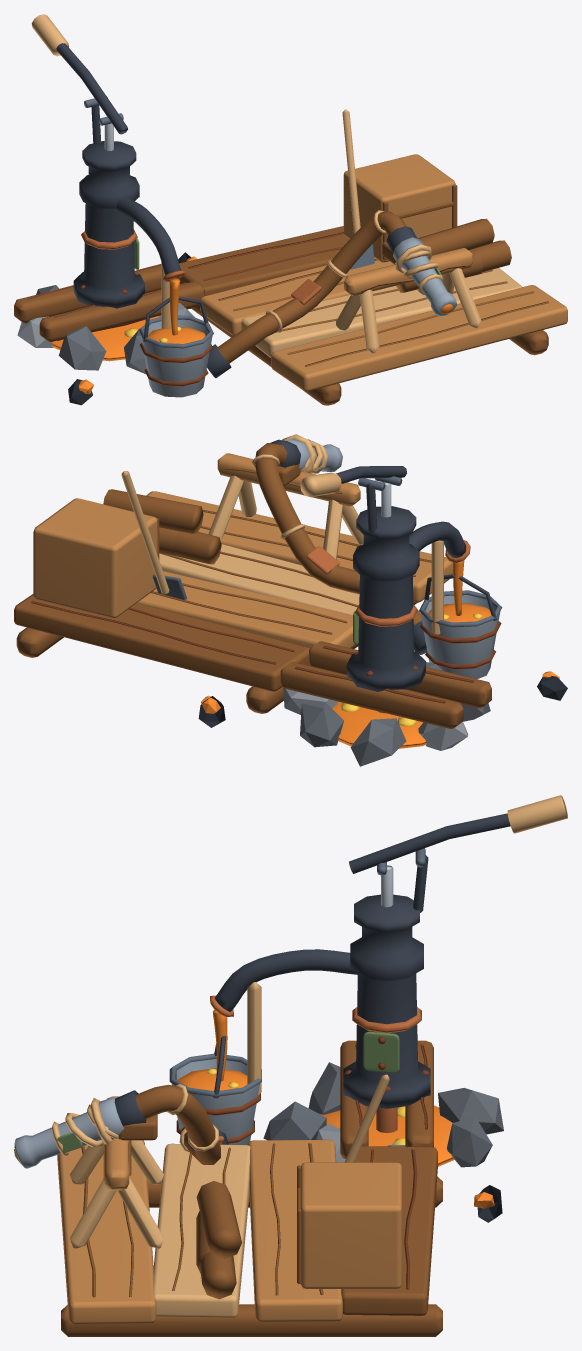
Rendered from LavaPump_T1.fbx.
3 views of the same model, one above another, from view 1: azimuth 30°, elevation 25°; view 2: azimuth 150°, elevation 25°; view 3: azimuth 270°, elevation 25° (orthographic). The views are drawn at different scales.
Visible parts, largest first — view 1: LavaPumpT1Pallet, LavaPumpT1Junk, LavaPumpT1Pump, LavaPumpT1Pit, LavaPumpT1Hose, LavaPumpT1Sawhorse, LavaPumpT1Bucket, LavaPumpT1Lever, LavaPumpT1Nozzle, LavaPumpT1BucketLavaGlow, LavaPumpT1PitLavaGlow; view 2: LavaPumpT1Pallet, LavaPumpT1Junk, LavaPumpT1Pit, LavaPumpT1Pump, LavaPumpT1Hose, LavaPumpT1Sawhorse, LavaPumpT1Bucket, LavaPumpT1Lever, LavaPumpT1PitLavaGlow, LavaPumpT1BucketLavaGlow, LavaPumpT1Nozzle; view 3: LavaPumpT1Pallet, LavaPumpT1Pump, LavaPumpT1Junk, LavaPumpT1Pit, LavaPumpT1Sawhorse, LavaPumpT1Lever, LavaPumpT1Bucket, LavaPumpT1Hose, LavaPumpT1Nozzle, LavaPumpT1PitLavaGlow, LavaPumpT1BucketLavaGlow.
Boxes of the visible parts, x1,y1,x2,y2 form: LavaPumpT1Pallet: (179, 226, 567, 405); LavaPumpT1Junk: (342, 109, 511, 292); LavaPumpT1Pump: (73, 141, 185, 328); LavaPumpT1Pit: (14, 252, 204, 405); LavaPumpT1Hose: (207, 210, 417, 377); LavaPumpT1Sawhorse: (336, 241, 481, 353); LavaPumpT1Bucket: (139, 296, 213, 397); LavaPumpT1Lever: (31, 14, 127, 150); LavaPumpT1Nozzle: (393, 237, 456, 316); LavaPumpT1BucketLavaGlow: (147, 277, 205, 343); LavaPumpT1PitLavaGlow: (52, 316, 160, 361); LavaPumpT1Pallet: (14, 491, 452, 713); LavaPumpT1Junk: (33, 471, 221, 618); LavaPumpT1Pit: (198, 641, 567, 766); LavaPumpT1Pump: (346, 506, 470, 713); LavaPumpT1Hose: (252, 439, 426, 654); LavaPumpT1Sawhorse: (208, 439, 363, 559); LavaPumpT1Bucket: (419, 574, 502, 678); LavaPumpT1Lever: (300, 466, 406, 532); LavaPumpT1PitLavaGlow: (332, 701, 426, 748); LavaPumpT1BucketLavaGlow: (428, 560, 491, 622); LavaPumpT1Nozzle: (282, 434, 342, 473); LavaPumpT1Pallet: (57, 1139, 442, 1336); LavaPumpT1Pump: (210, 894, 430, 1132); LavaPumpT1Junk: (196, 1074, 402, 1299); LavaPumpT1Pit: (263, 1040, 503, 1222); LavaPumpT1Sawhorse: (65, 1096, 163, 1248); LavaPumpT1Lever: (349, 795, 567, 912); LavaPumpT1Bucket: (169, 1036, 261, 1145); LavaPumpT1Hose: (114, 1084, 228, 1164); LavaPumpT1Nozzle: (14, 1097, 123, 1168); LavaPumpT1PitLavaGlow: (321, 1105, 454, 1166); LavaPumpT1BucketLavaGlow: (177, 1009, 247, 1090).
Bounding box in the file's own units: 632 × 379 × 544.
